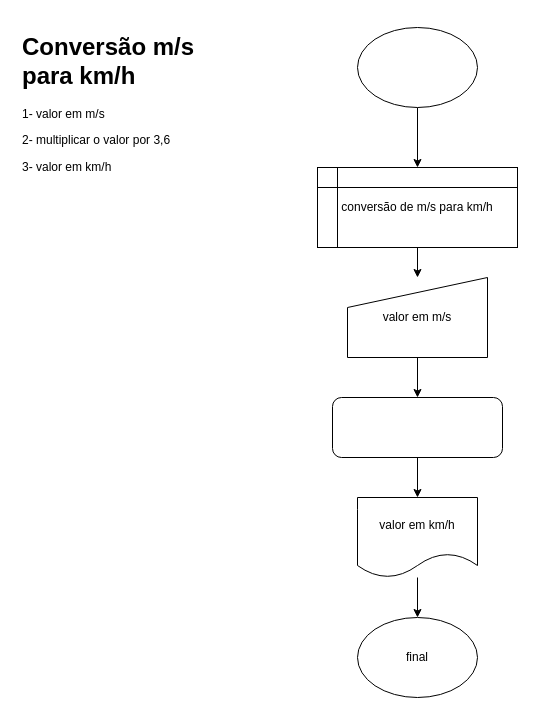
Some shapes in this 535 by 715 pixel diagram are drawn without their labels. Here are the shapes that lost their labels. From the top down, the centre of each, then its label:
At (x=417, y=67): "inicio".
At (x=417, y=427): "km/h= m/s*3,6".
